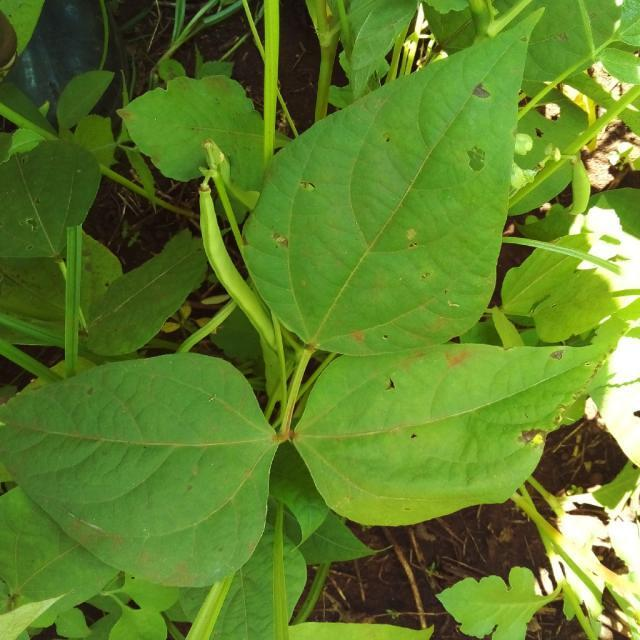hawar: (335, 302, 510, 407), (446, 82, 530, 218), (541, 350, 592, 370), (511, 420, 554, 443)
sehat: (136, 430, 251, 499)
